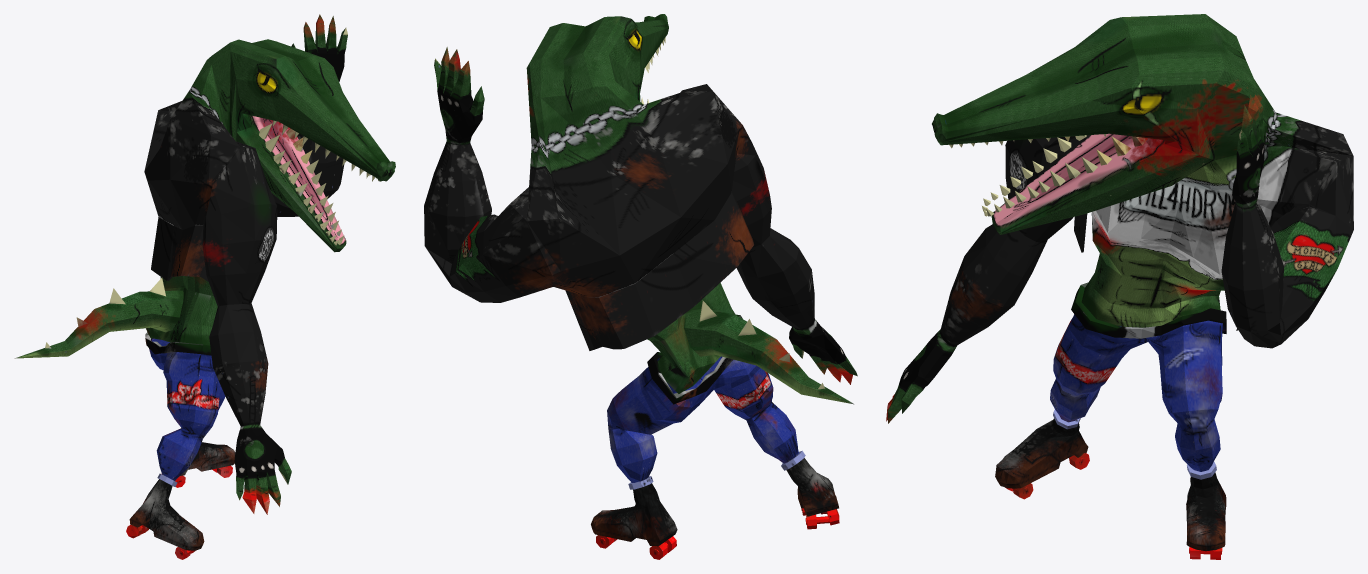
File: cocodrilaBonesSelect_000016.obj
3 renders of one model, left to right at view 1: azimuth 30°, elevation 25°; view 2: azimuth 150°, elevation 25°; view 3: azimuth 270°, elevation 25°, orthographic. The views are drawn at different scales.
Parts seen in each view (by area): view 1: Crocodile.002_Cylinder.002; view 2: Crocodile.002_Cylinder.002; view 3: Crocodile.002_Cylinder.002.
Boxes of the visible parts, x1,y1,x2,y2 form: Crocodile.002_Cylinder.002: (14, 14, 395, 559); Crocodile.002_Cylinder.002: (424, 14, 857, 559); Crocodile.002_Cylinder.002: (886, 14, 1353, 559).
Size of the model in its own units: 5.21 by 6.16 by 4.67.
